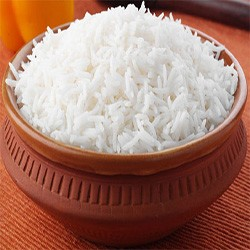plain rice: (16, 6, 234, 147)
